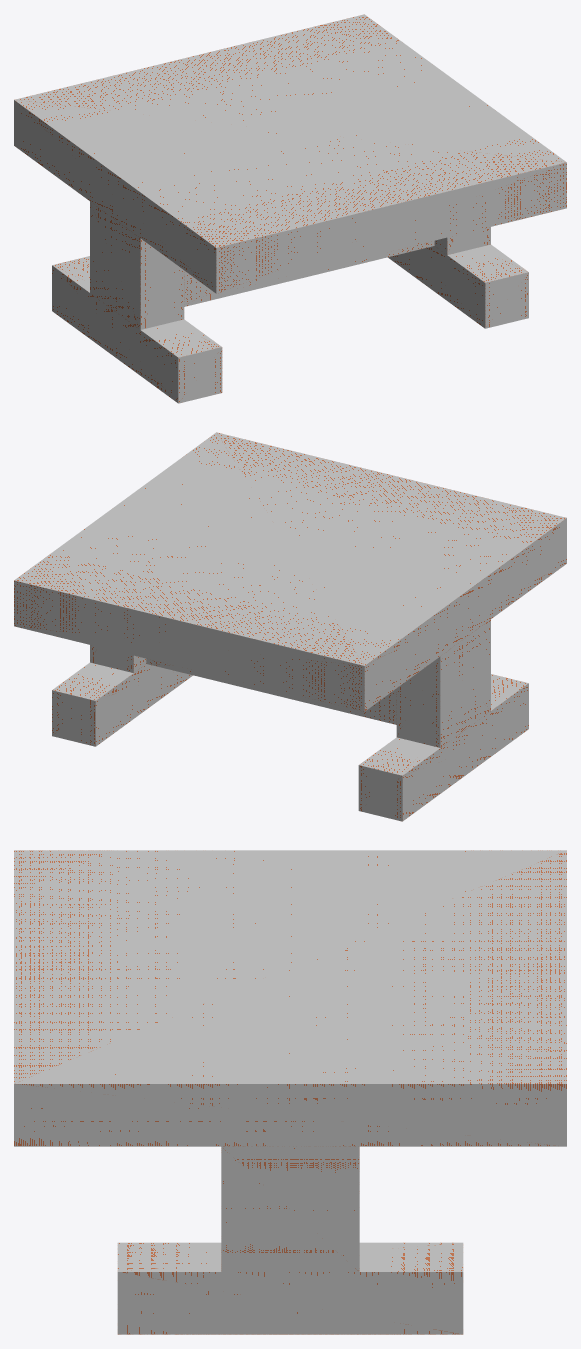
File: wood-table.fbx
3 views of the same model, one above another, from view 1: azimuth 30°, elevation 25°; view 2: azimuth 150°, elevation 25°; view 3: azimuth 270°, elevation 25° (orthographic). The views are drawn at different scales.
Parts seen in each view (by area): view 1: generated; view 2: generated; view 3: generated.
Part boxes in pixels (x1,y1,x2,y2): generated: [14, 14, 566, 403]; generated: [14, 432, 566, 821]; generated: [14, 850, 566, 1334].
Size of the model in its own units: 80 by 40 by 80.
Materials: 1 (1 with a texture image).
